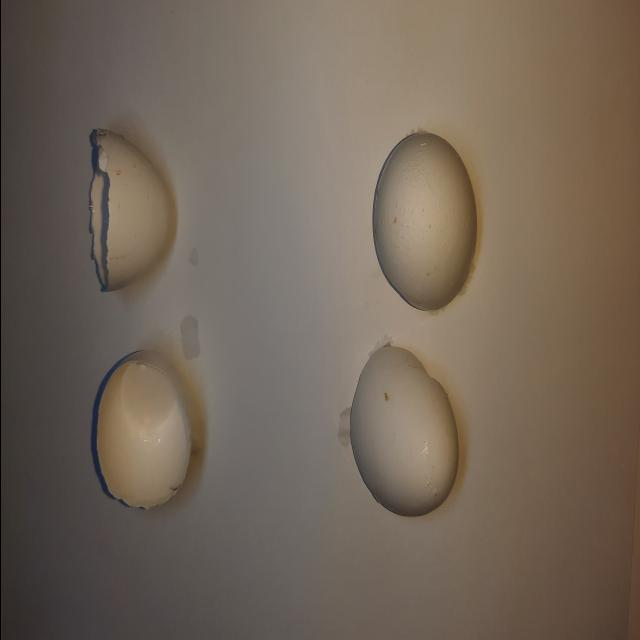egg shell: (346, 342, 462, 520), (371, 128, 478, 314), (92, 347, 194, 515), (84, 124, 173, 298)
